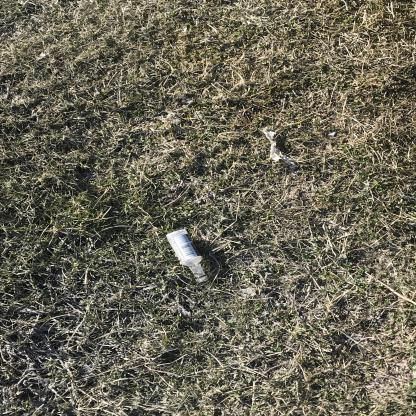Other plastic container: (166, 229, 208, 282)
Unlabeled litter: (262, 125, 298, 173)
